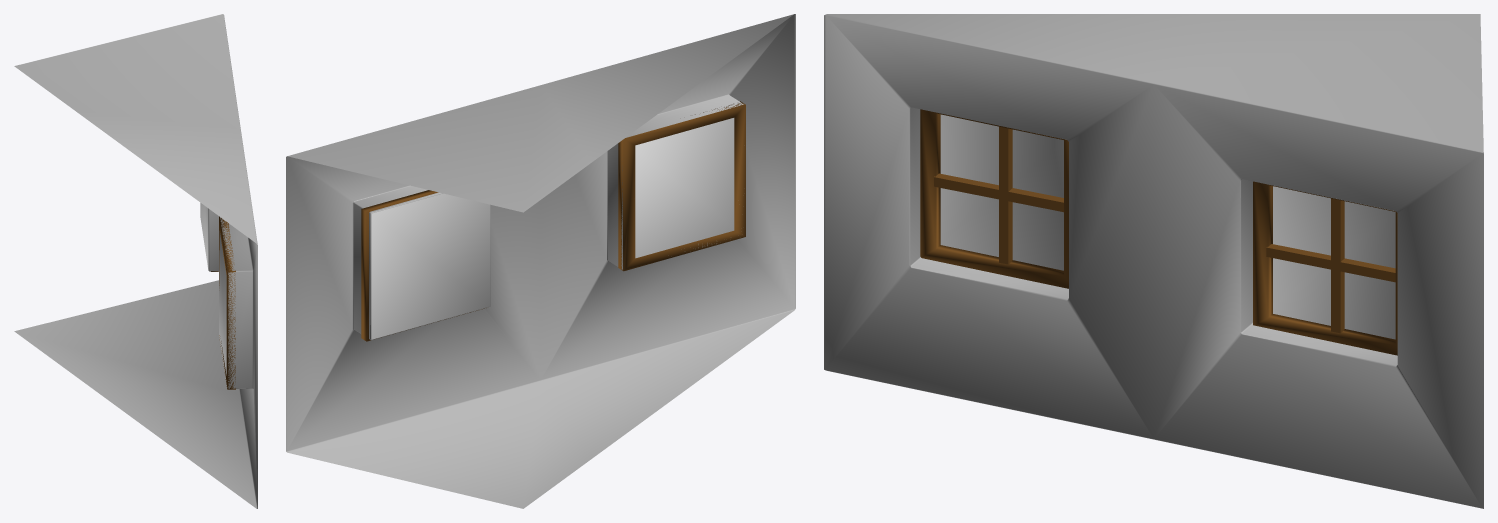
The model's file is A_Bloc_2_5.fbx.
3 views of the same model, side by side, from view 1: azimuth 30°, elevation 25°; view 2: azimuth 150°, elevation 25°; view 3: azimuth 270°, elevation 25° (orthographic). The views are drawn at different scales.
Visible parts, largest first — view 1: Wall.007, Window_1.005; view 2: Wall.007, Window_1.005, Window_2.006; view 3: Wall.007, Window_1.005, Window_2.006.
Boxes of the visible parts, box(x1,y1,x2,y2) form: Wall.007: box(14, 14, 257, 508); Window_1.005: box(219, 216, 235, 389); Wall.007: box(286, 14, 795, 508); Window_1.005: box(618, 101, 745, 271); Window_2.006: box(361, 190, 484, 341); Wall.007: box(824, 14, 1483, 508); Window_1.005: box(920, 109, 1068, 288); Window_2.006: box(1253, 181, 1397, 355).
Bounding box in the file's own units: 248 × 297 × 498.
